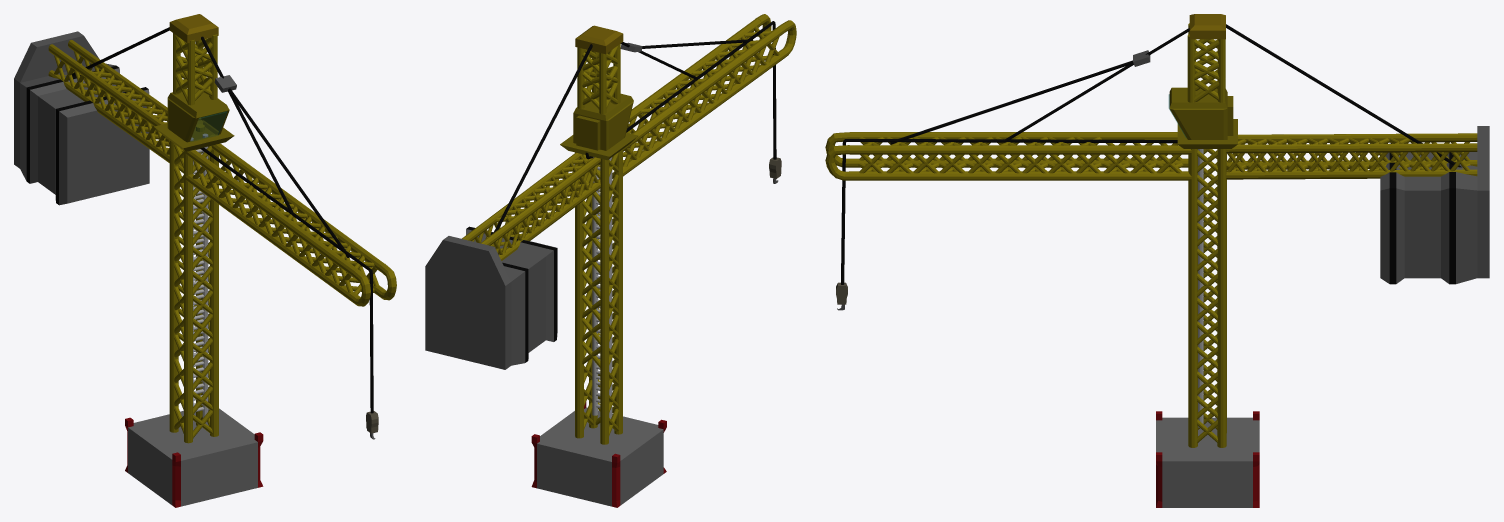
Rendered from crain.fbx.
3 renders of one model, left to right at view 1: azimuth 30°, elevation 25°; view 2: azimuth 150°, elevation 25°; view 3: azimuth 270°, elevation 25°, orthographic. The views are drawn at different scales.
Visible parts, largest first — view 1: Cube.005, Cylinder.021; view 2: Cube.005, Cylinder.021; view 3: Cube.005, Cylinder.021.
Part boxes in pixels (left/top/right/bottom): Cube.005: left=14, top=14, right=396, bottom=507; Cylinder.021: left=190, top=133, right=208, bottom=421; Cube.005: left=425, top=14, right=796, bottom=507; Cylinder.021: left=592, top=157, right=612, bottom=418; Cube.005: left=825, top=14, right=1489, bottom=507; Cylinder.021: left=1198, top=149, right=1203, bottom=427.
Bounding box in the file's own units: 1160 × 5635 × 7273.
